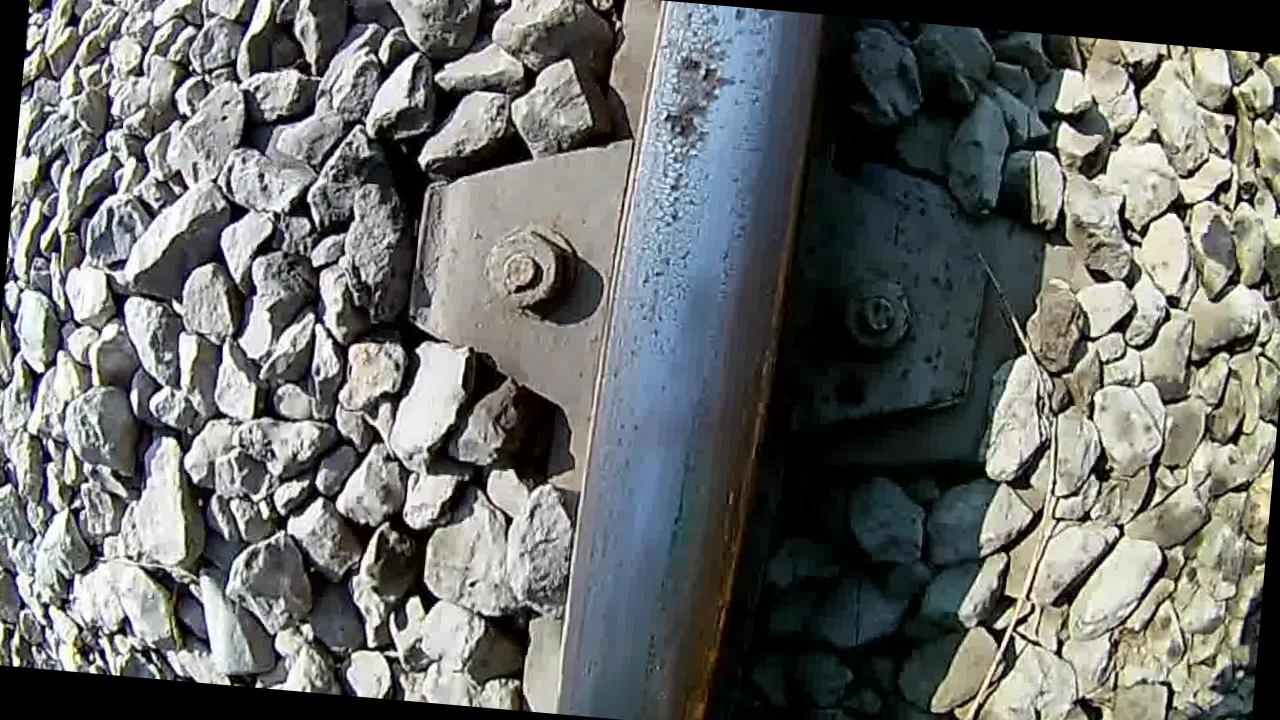crack: (561, 0, 816, 720)
